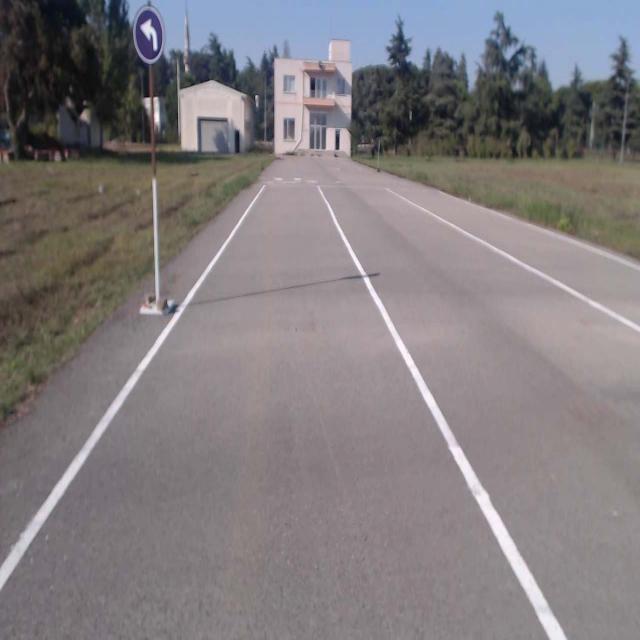sol: (132, 6, 165, 63)
